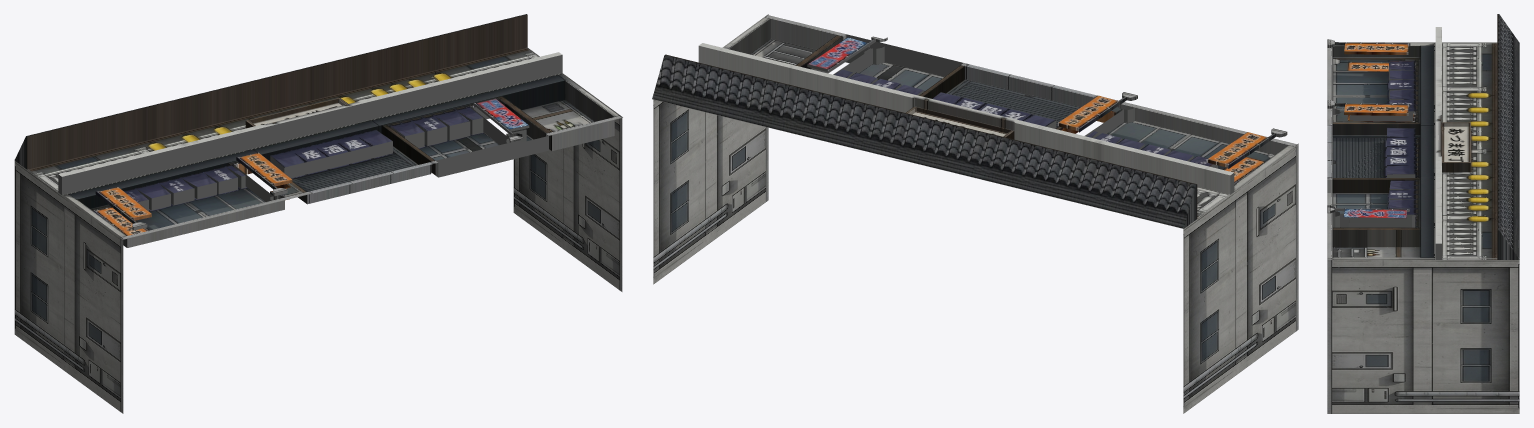
3 renders of one model, left to right at view 1: azimuth 30°, elevation 25°; view 2: azimuth 150°, elevation 25°; view 3: azimuth 270°, elevation 25°, orthographic. The views are drawn at different scales.
Visible parts, largest first — view 1: Plane, Plane.009, Plane.002, Plane.001, Plane.008, Plane.003, Plane.007, Plane.005, Plane.004, Plane.006; view 2: Plane.002, Plane.009, Plane, Plane.008, Plane.001, Plane.003, Plane.005, Plane.004, Plane.006, Plane.007; view 3: Plane.008, Plane, Plane.001, Plane.002, Plane.003, Plane.007, Plane.004, Plane.005, Plane.006, Plane.009.
Part boxes in pixels (box(x1,y1,x2,y2)): Plane: box(62, 73, 622, 247); Plane.009: box(14, 161, 123, 413); Plane.002: box(14, 14, 527, 169); Plane.001: box(28, 48, 562, 194); Plane.008: box(513, 47, 622, 291); Plane.003: box(270, 107, 482, 167); Plane.007: box(124, 165, 245, 202); Plane.005: box(95, 187, 151, 230); Plane.004: box(236, 152, 292, 196); Plane.006: box(473, 98, 529, 141); Plane.002: box(652, 54, 1197, 228); Plane.009: box(1183, 143, 1298, 413); Plane: box(724, 15, 1297, 191); Plane.008: box(653, 14, 768, 284); Plane.001: box(698, 43, 1234, 218); Plane.003: box(834, 69, 1055, 126); Plane.005: box(1207, 128, 1287, 168); Plane.004: box(1057, 92, 1137, 132); Plane.006: box(807, 36, 887, 73); Plane.007: box(1087, 131, 1212, 166); Plane.008: box(1327, 258, 1519, 413); Plane: box(1327, 43, 1435, 259); Plane.001: box(1435, 27, 1497, 259); Plane.002: box(1497, 14, 1519, 259); Plane.003: box(1387, 127, 1415, 214); Plane.007: box(1389, 61, 1415, 111); Plane.004: box(1327, 100, 1410, 115); Plane.005: box(1327, 39, 1410, 54); Plane.006: box(1327, 205, 1409, 220); Plane.009: box(1362, 42, 1497, 43).
Bounding box in the file's own units: 1690 × 668 × 635.
4 materials, 4 textured.
